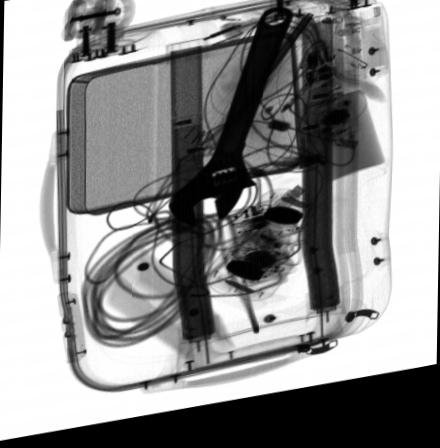Wrench: (168, 16, 294, 234)
